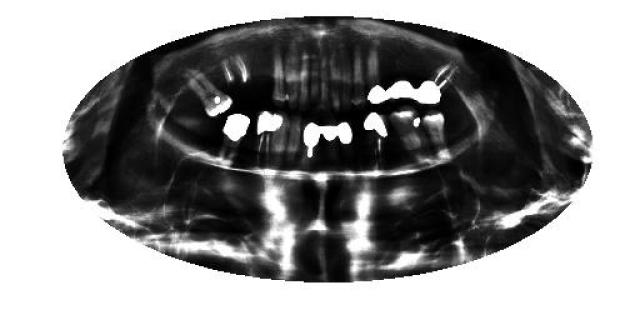Cavity: (222, 56, 254, 92)
Fillings: (190, 69, 234, 119), (362, 111, 388, 160), (222, 114, 250, 158), (366, 46, 386, 106), (269, 112, 289, 162), (387, 70, 415, 104), (336, 120, 356, 156), (320, 124, 336, 158)
Implant: (415, 59, 457, 106), (255, 111, 271, 169), (301, 121, 321, 164)
